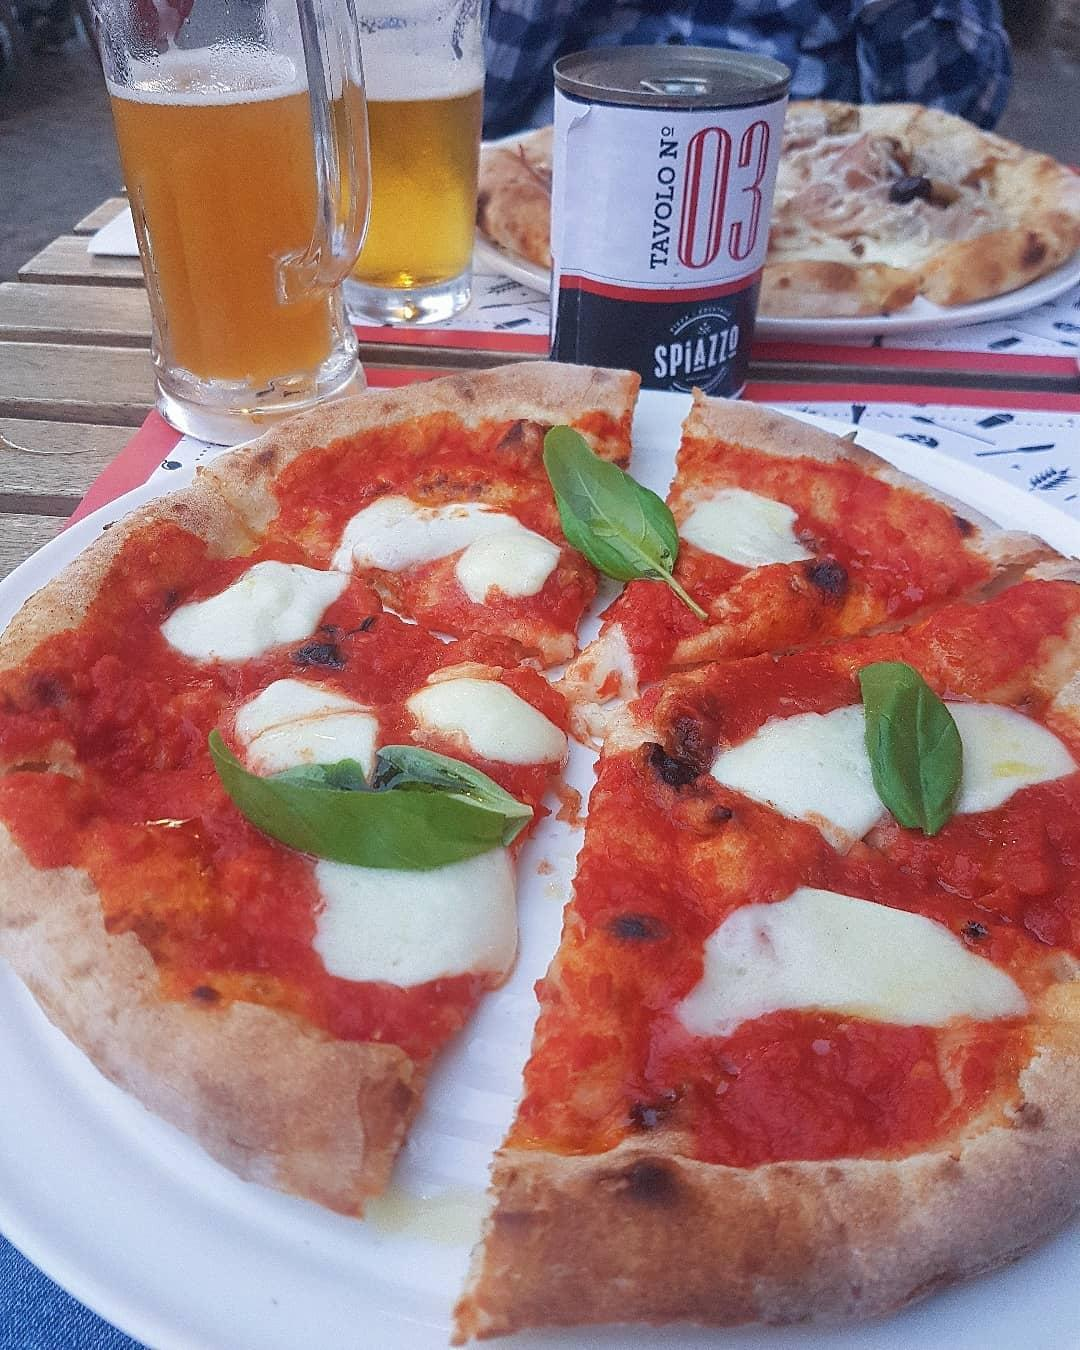Basil: (197, 723, 541, 882), (537, 417, 716, 634), (850, 654, 973, 846)
Cheese: (665, 876, 1033, 1045), (298, 836, 529, 991), (711, 693, 893, 843), (324, 497, 566, 607), (161, 561, 357, 665), (941, 693, 1080, 835), (400, 669, 576, 771), (234, 676, 385, 787), (670, 484, 827, 579)
Pizza: (0, 354, 1080, 1344)
